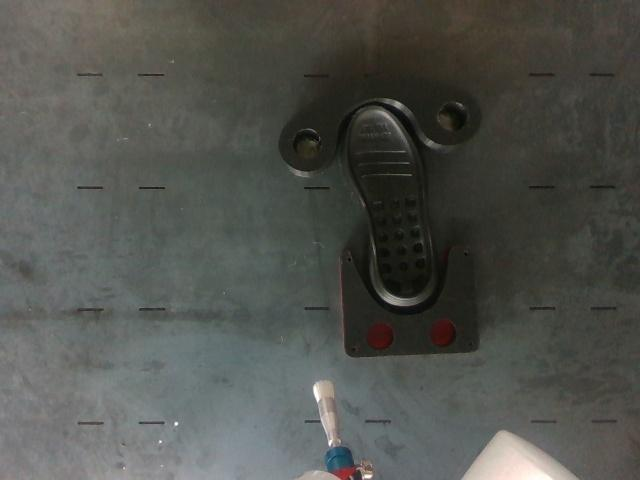shoes: (347, 105, 433, 299)
